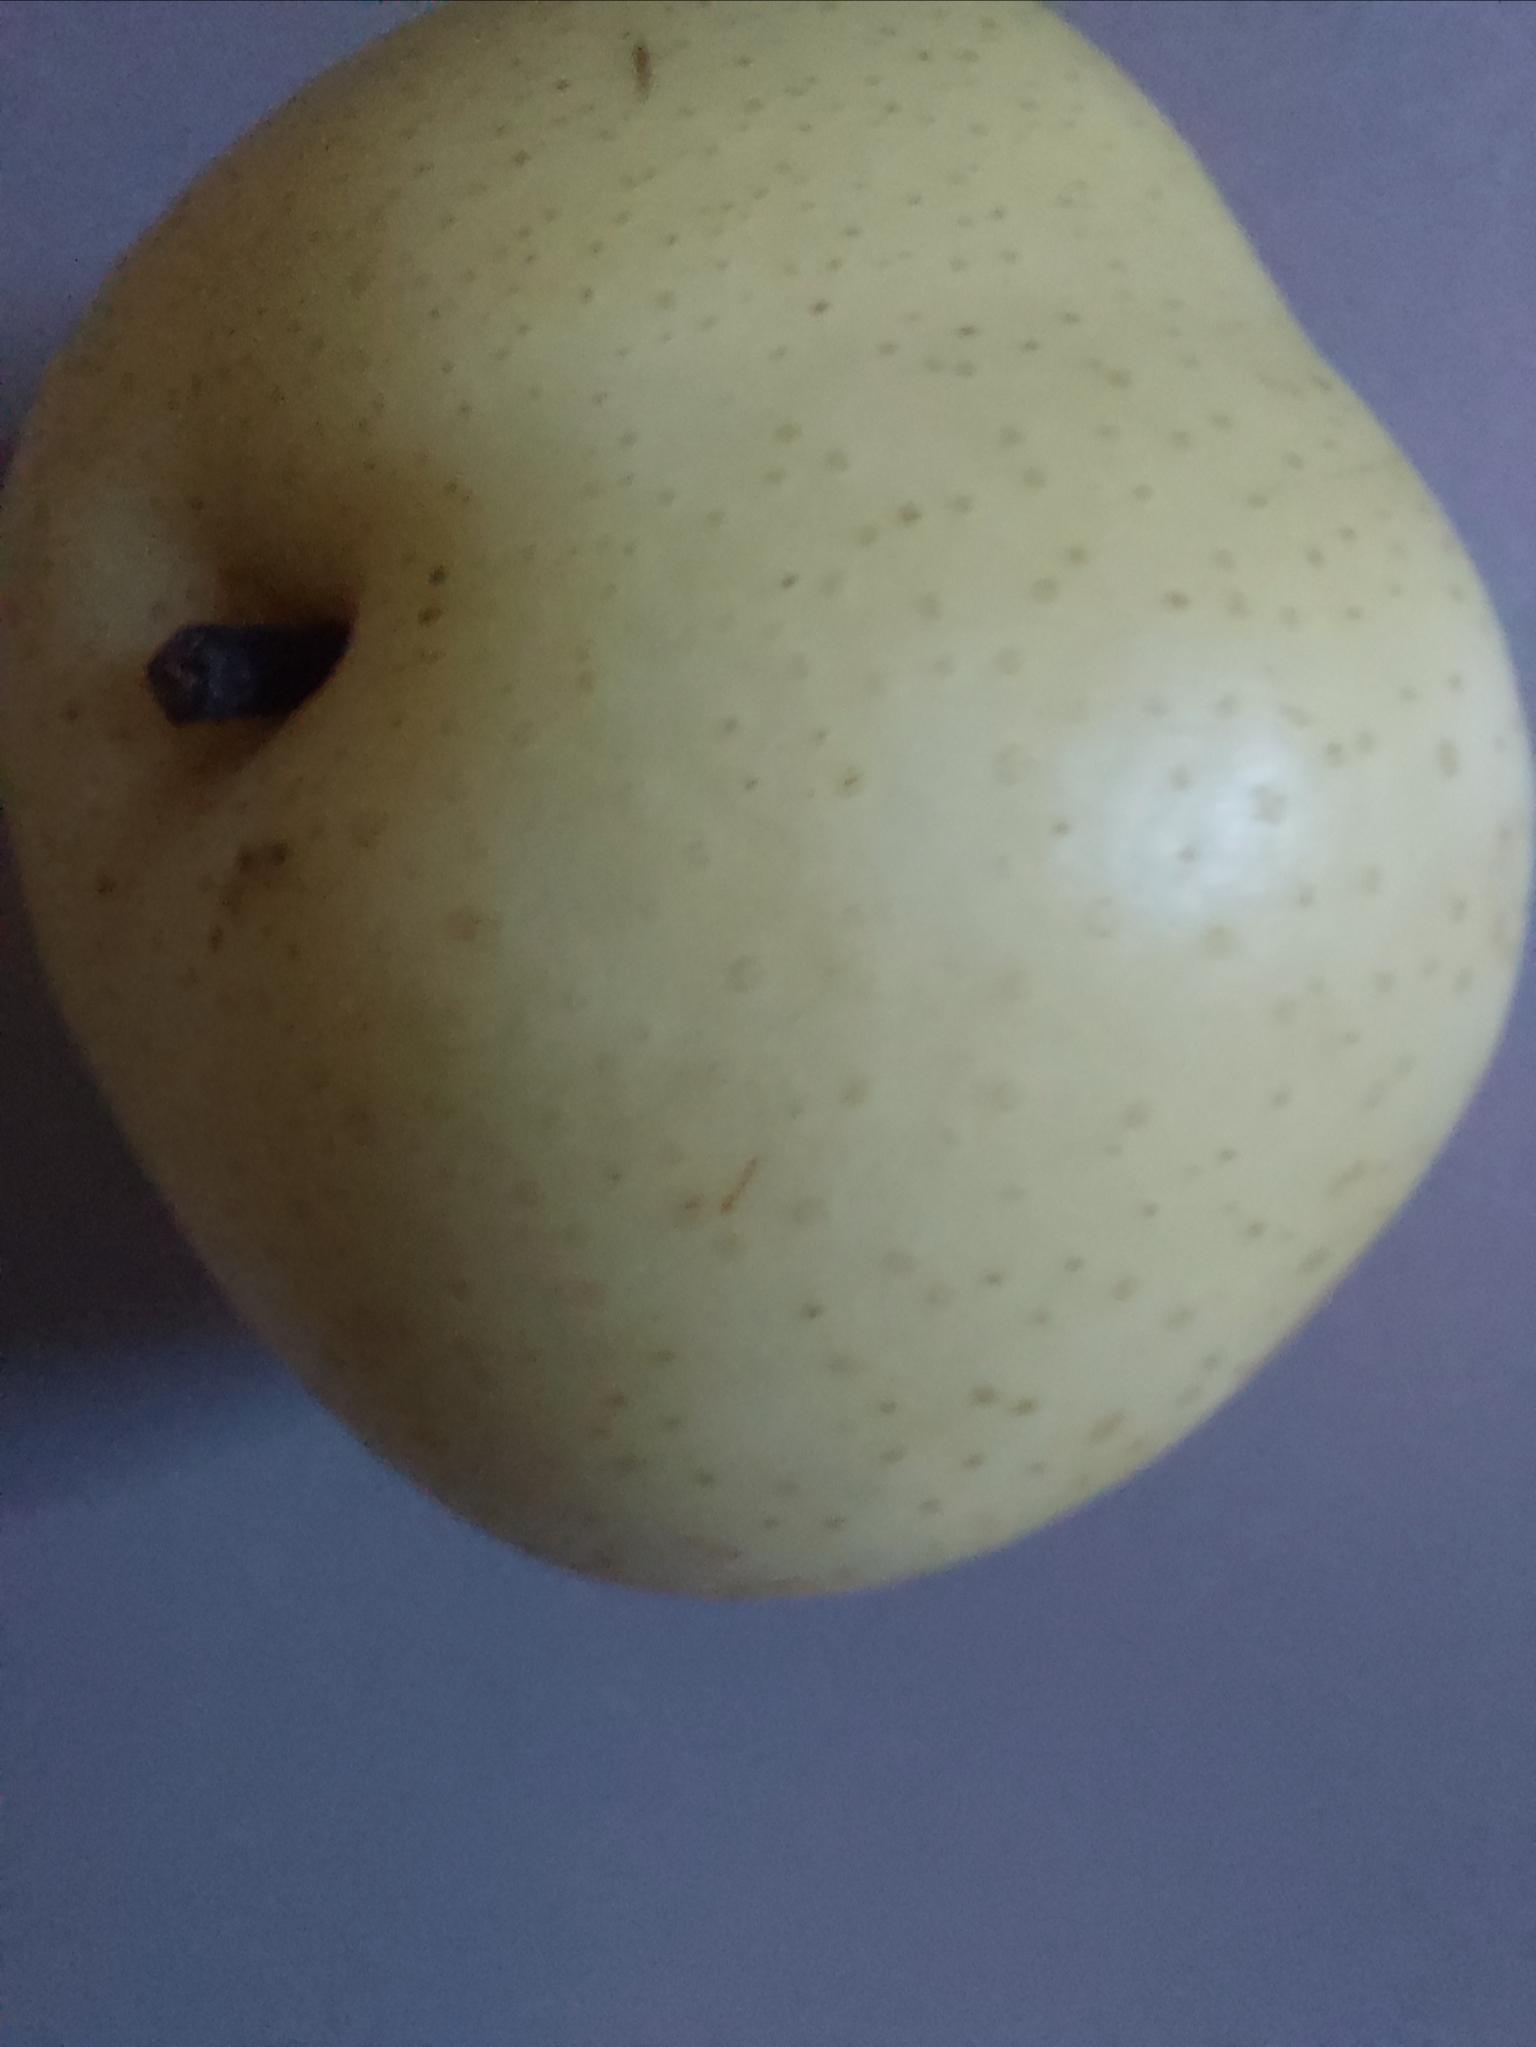Good Pear: (0, 0, 1536, 1674)
